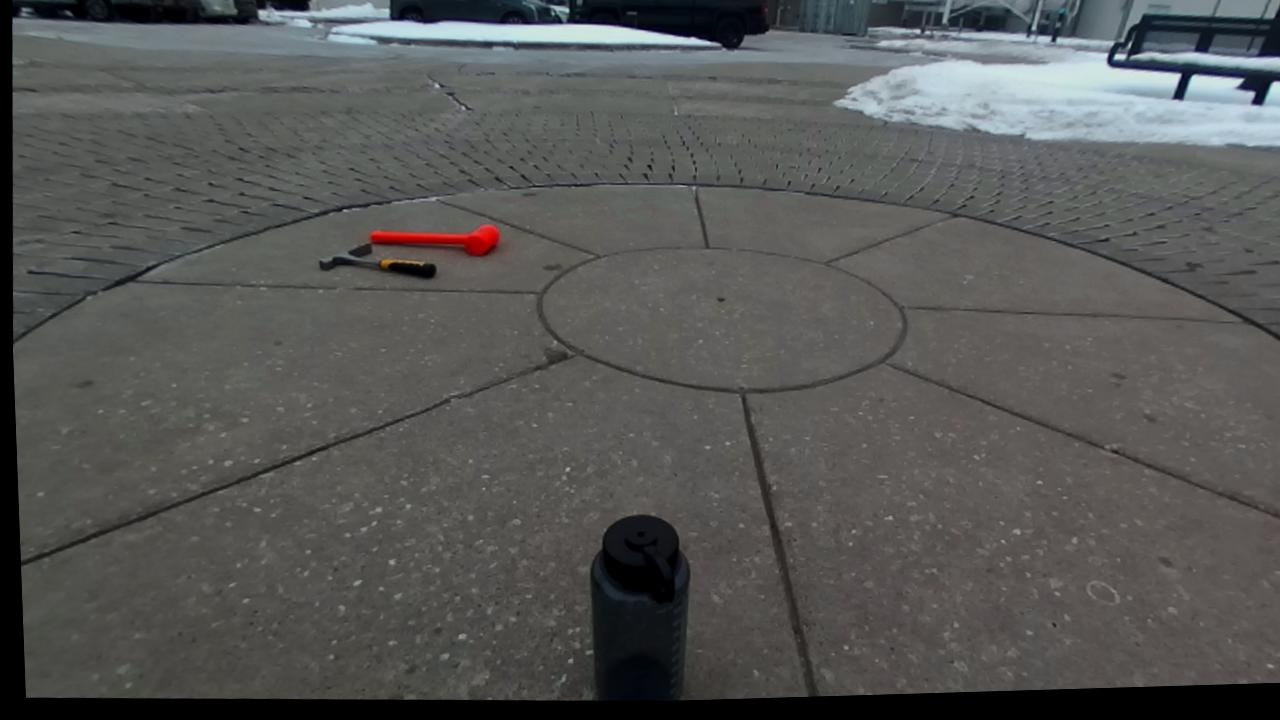bottle: (591, 516, 690, 700)
mallet: (370, 224, 499, 255)
pick: (319, 243, 436, 278)
